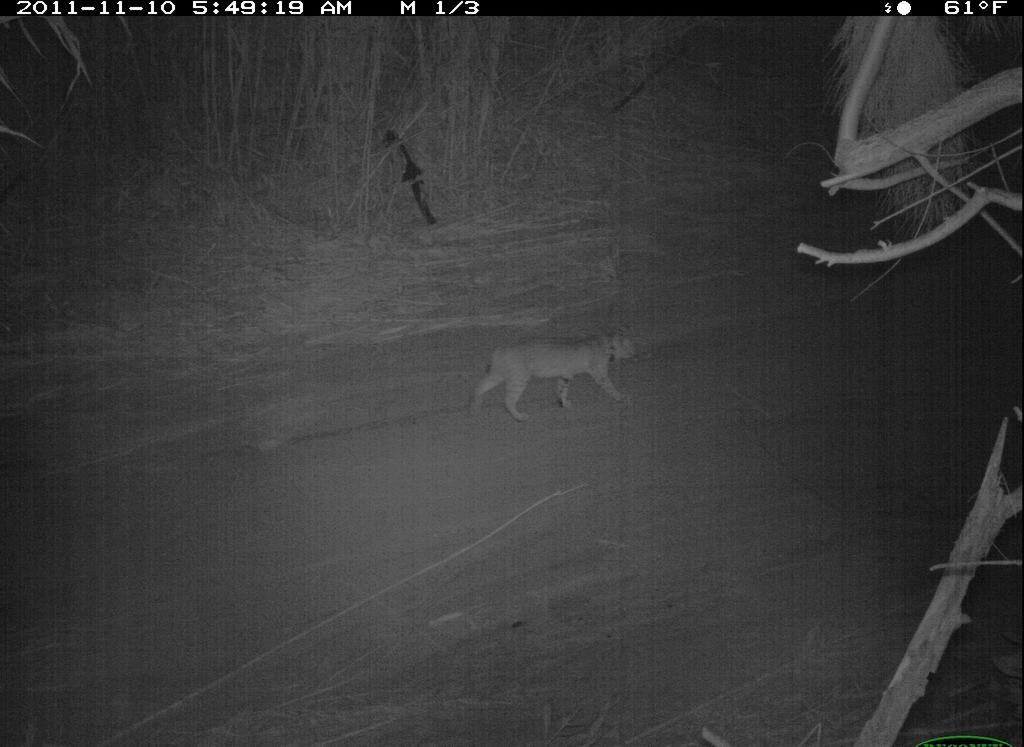bobcat: (465, 327, 651, 424)
